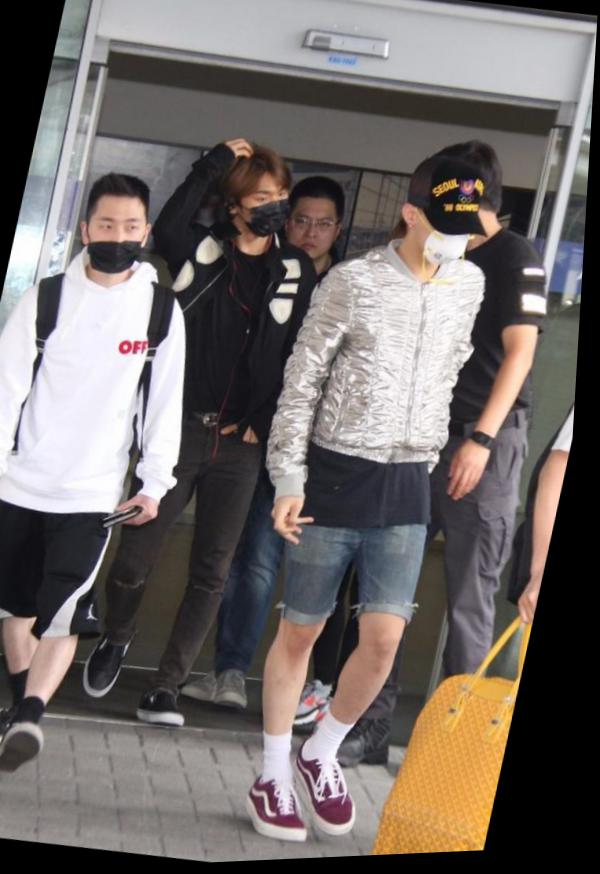NONE: (288, 209, 345, 265)
OK: (240, 178, 299, 245), (418, 212, 479, 272)
WRONG: (87, 207, 153, 280)
